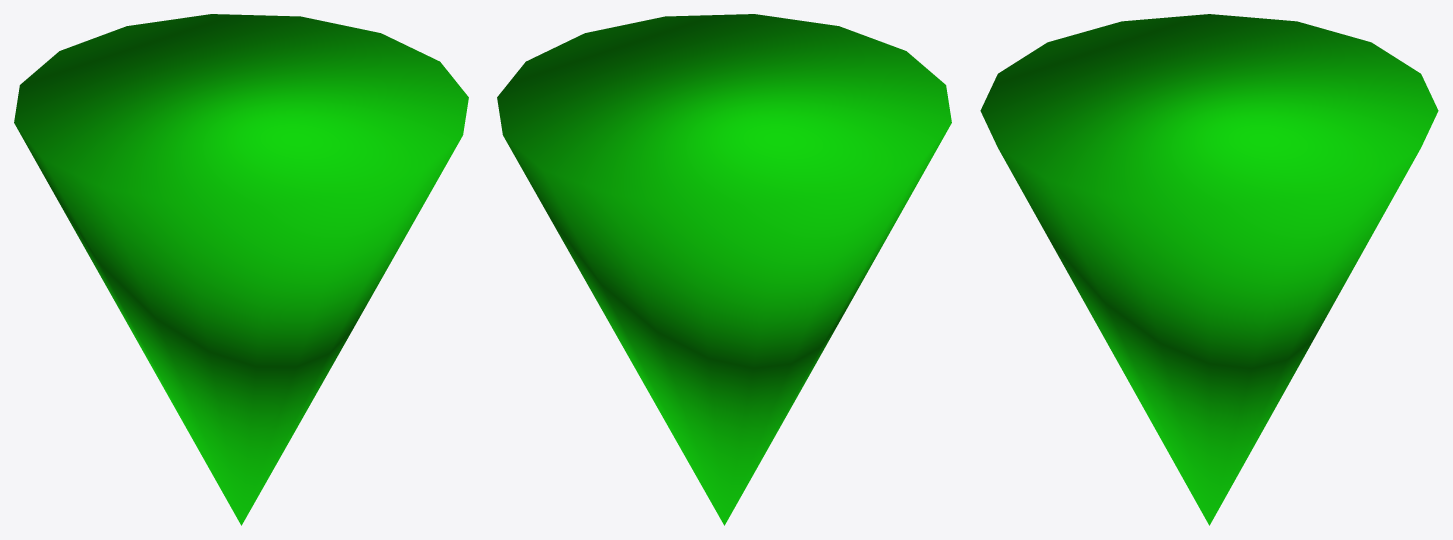
The model's file is hunterIndicator.fbx.
3 views of the same model, side by side, from view 1: azimuth 30°, elevation 25°; view 2: azimuth 150°, elevation 25°; view 3: azimuth 270°, elevation 25° (orthographic).
Parts seen in each view (by area): view 1: Cone; view 2: Cone; view 3: Cone.
Part boxes in pixels (x1,y1,x2,y2): Cone: (14, 14, 468, 525); Cone: (497, 14, 951, 525); Cone: (980, 14, 1438, 525).
Bounding box in the file's own units: 2 × 2 × 2.
